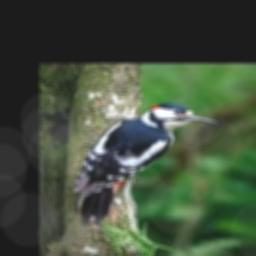Woodpecker: (73, 103, 217, 227)
